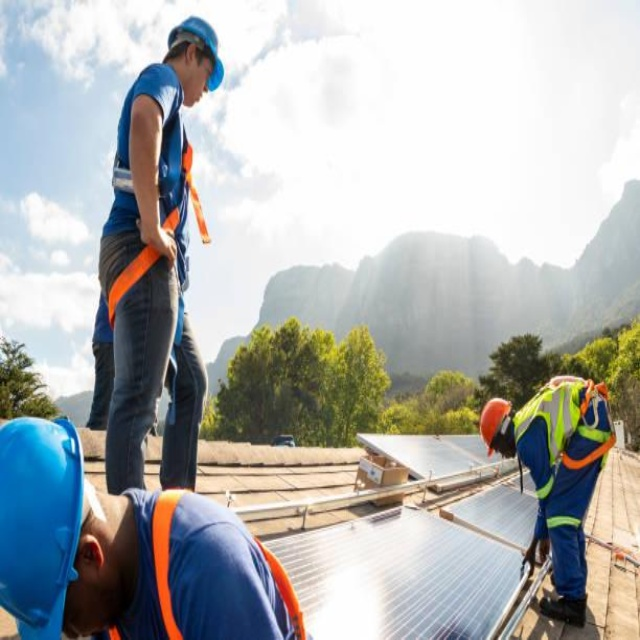Arnes_seguridad: (105, 71, 211, 358), (110, 485, 305, 640), (513, 377, 613, 536)
